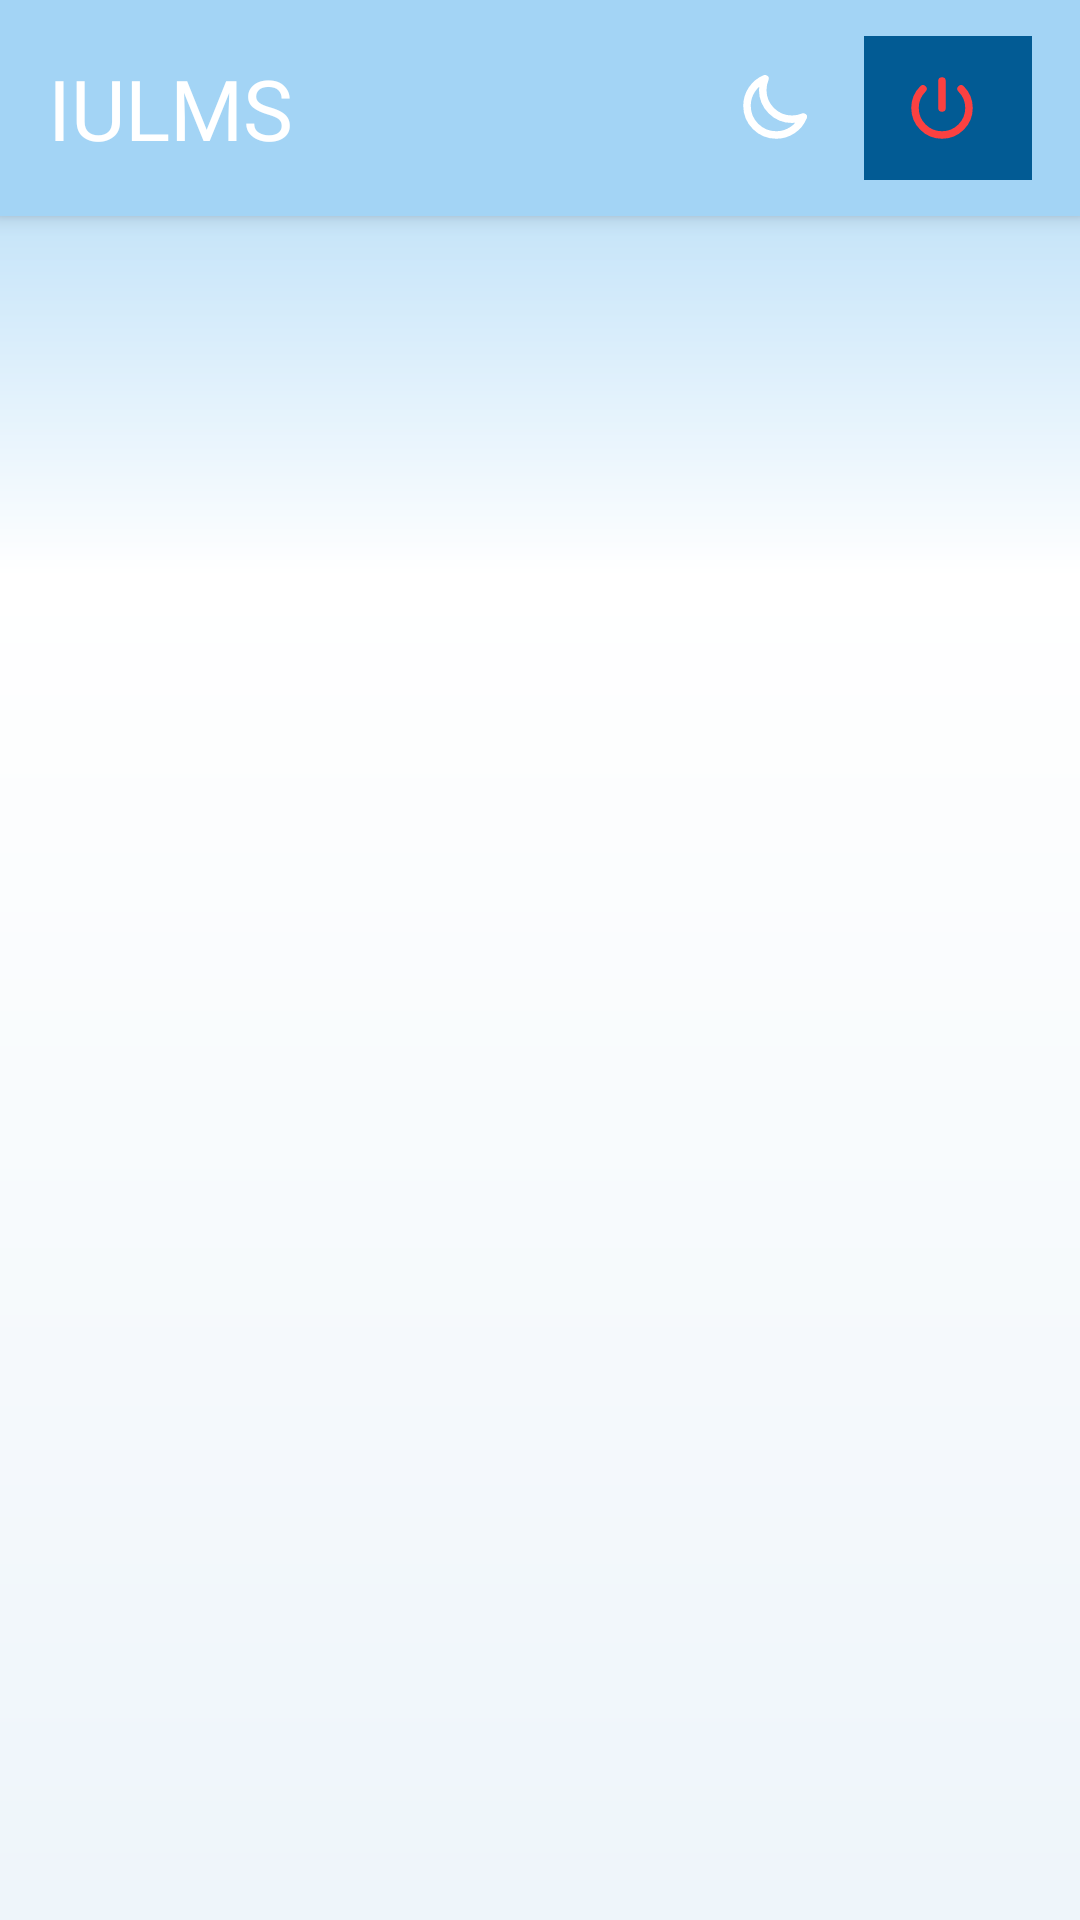

Icon click points for this 1080 × 1920 phone screenshot, format (x=x, y=y):
power: (x=942, y=108)
theme: (x=775, y=107)
